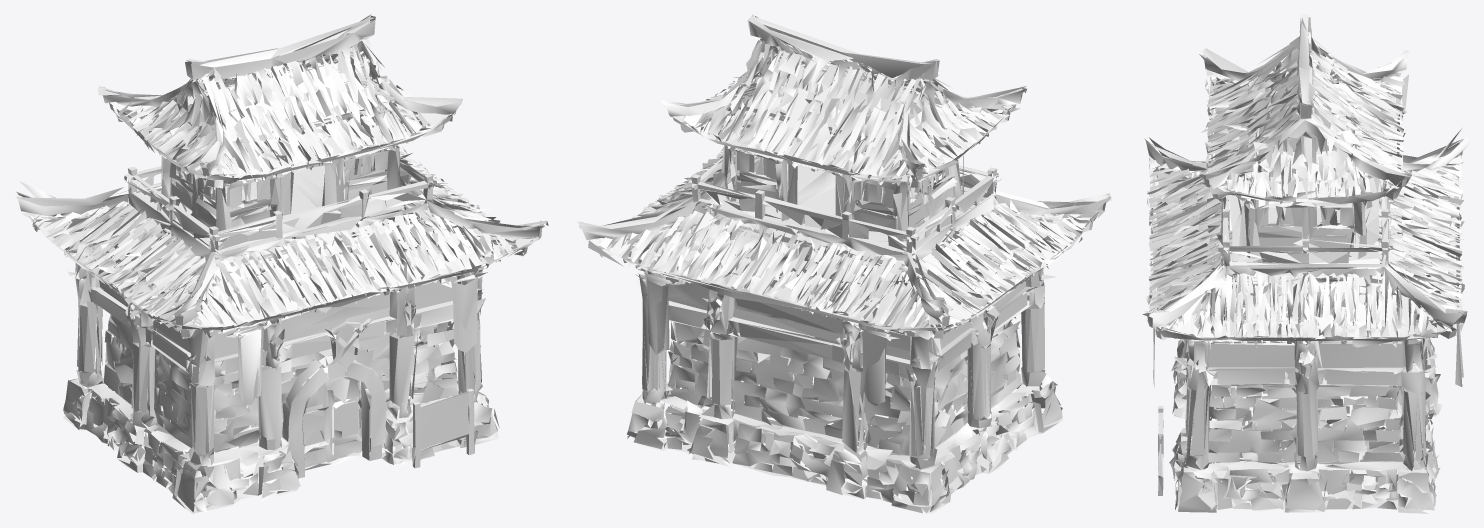
The model's file is guild_hall_lod1.glb.
The picture shows the model from 3 angles, left to right: view 1: azimuth 30°, elevation 25°; view 2: azimuth 150°, elevation 25°; view 3: azimuth 270°, elevation 25°; orthographic projection. The views are drawn at different scales.
Parts seen in each view (by area): view 1: guild_hall; view 2: guild_hall; view 3: guild_hall.
Part boxes in pixels (left/top/right/bottom): guild_hall: left=14, top=14, right=548, bottom=513; guild_hall: left=577, top=14, right=1112, bottom=513; guild_hall: left=1142, top=14, right=1469, bottom=513.
Bounding box in the file's own units: 15.98 × 16.17 × 12.46.
Materials: 1 (1 with a texture image).
